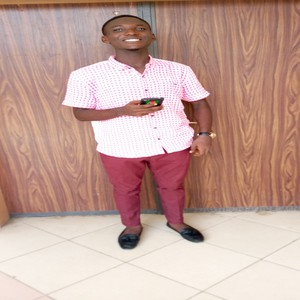Fulokoja_male_student: (82, 18, 197, 236)
